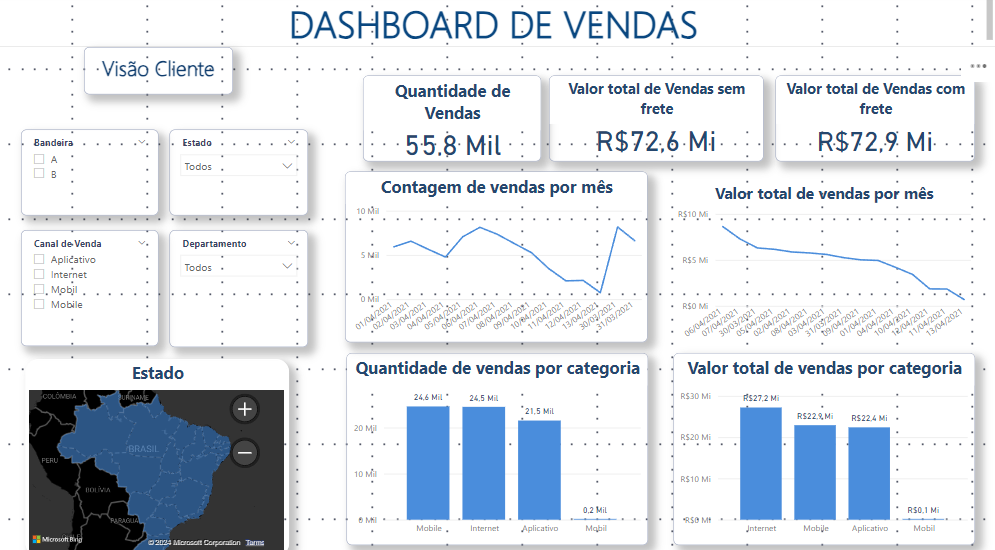

This screenshot's page, from the dashboard's own definition file:
{"tool":"powerbi","page":{"name":"Dashboard de Vendas","canvas":[1280,720],"ordinal":0},"visuals":[{"type":"card","title":"Quantidade de Vendas","fields":{"Values":["Count(base compra.idcompra)"]},"box":[467.9,105.7,227.8,109.8],"z":0},{"type":"card","title":"Valor total de Vendas sem frete","fields":{"Values":["Sum(base compra.Preço)"]},"box":[706.7,105.7,274.4,109.8],"z":1000},{"type":"card","title":"Valor total de Vendas com frete","fields":{"Values":["Sum(base compra.Preço_com_frete)"]},"box":[996.2,105.7,255.2,109.8],"z":2000},{"type":"columnChart","title":"Quantidade de vendas por categoria","fields":{"Category":["base compra.idcanalvenda"],"Y":["Count(base compra.idcompra)"]},"box":[447.1,461.4,385.7,245.7],"z":3000},{"type":"columnChart","title":"Valor total de vendas por categoria","fields":{"Y":["Sum(base compra.Preço)"],"Category":["base compra.idcanalvenda"]},"box":[865.7,461.4,385.7,245.7],"z":4000},{"type":"slicer","fields":{"Values":["base compra.bandeira"]},"box":[30,174.3,175.7,110],"z":5000},{"type":"slicer","fields":{"Values":["base compra.idcanalvenda"]},"box":[30,304.3,175.7,148.6],"z":6000},{"type":"slicer","fields":{"Values":["base compra.Nome_Departamento"]},"box":[220,304.3,177.1,150],"z":7000},{"type":"slicer","fields":{"Values":["base compra.estado"]},"box":[220,174.3,177.1,110],"z":8000},{"type":"filledMap","title":"Estado","fields":{"Category":["base compra.estado - 2"]},"box":[37,467.9,337.6,252.5],"z":9000},{"type":"lineChart","title":"Valor total de vendas por mês","fields":{"Category":["base compra.Data.Variation.Hierarquia de datas.Mês"],"Y":["Sum(base compra.Preço_com_frete)"]},"box":[865.9,241.5,385.6,211.3],"z":10000},{"type":"textbox","box":[0,0,1279.8,69],"z":11000},{"type":"textbox","box":[111.1,68.6,190.7,60.4],"z":12000},{"type":"lineChart","title":"Contagem de vendas por mês","fields":{"Category":["base compra.Data.Variation.Hierarquia de datas.Mês","base compra.Data.Variation.Hierarquia de datas.Dia"],"Y":["CountNonNull(base compra.idcompra)"]},"box":[445.9,229.4,387.1,218.8],"z":13000}]}

Visuals, with their boxes in screenshot pixels (x1, y1, x2, y2), scaled from the page's 1280x720 canvas onto the 995x550 screenshot:
"Quantidade de Vendas" card: bbox=[364, 81, 541, 165]
"Valor total de Vendas sem frete" card: bbox=[549, 81, 763, 165]
"Valor total de Vendas com frete" card: bbox=[774, 81, 973, 165]
"Quantidade de vendas por categoria" columnChart: bbox=[348, 352, 647, 540]
"Valor total de vendas por categoria" columnChart: bbox=[673, 352, 973, 540]
slicer - base compra.bandeira: bbox=[23, 133, 160, 217]
slicer - base compra.idcanalvenda: bbox=[23, 232, 160, 346]
slicer - base compra.Nome_Departamento: bbox=[171, 232, 309, 347]
slicer - base compra.estado: bbox=[171, 133, 309, 217]
"Estado" filledMap: bbox=[29, 357, 291, 549]
"Valor total de vendas por mês" lineChart: bbox=[673, 184, 973, 346]
textbox: bbox=[0, 0, 994, 53]
textbox: bbox=[86, 52, 235, 99]
"Contagem de vendas por mês" lineChart: bbox=[347, 175, 648, 342]
